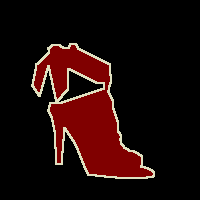shoe: (32, 44, 154, 178)
